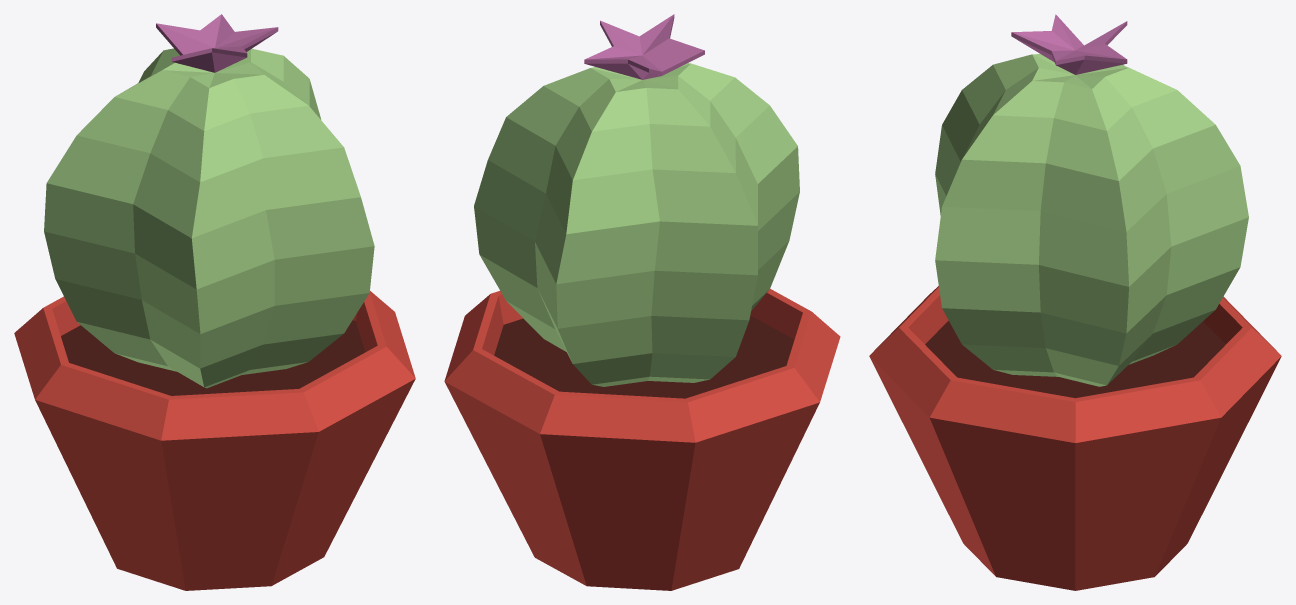
File: Cactus.fbx
3 views of the same model, side by side, from view 1: azimuth 30°, elevation 25°; view 2: azimuth 150°, elevation 25°; view 3: azimuth 270°, elevation 25° (orthographic).
Visible parts, largest first — view 1: Cactus; view 2: Cactus; view 3: Cactus.
Part boxes in pixels (bbox=[...]): Cactus: bbox=[14, 14, 415, 590]; Cactus: bbox=[444, 14, 840, 590]; Cactus: bbox=[869, 14, 1281, 590].
Size of the model in its own units: 15.74 by 21.52 by 15.74.
